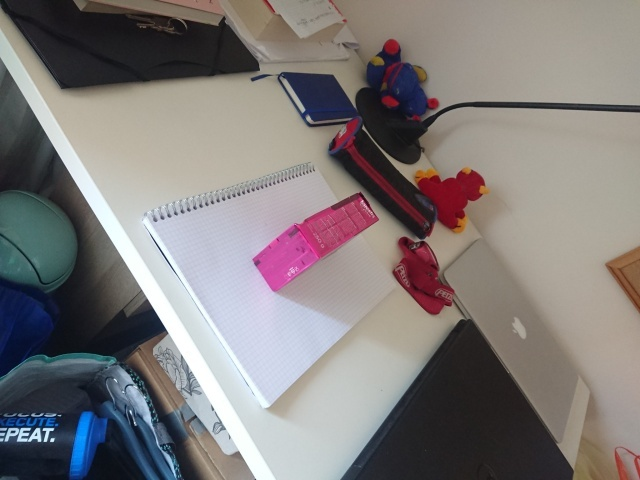Barcaffe Classic Original 225g: (250, 189, 382, 294)
